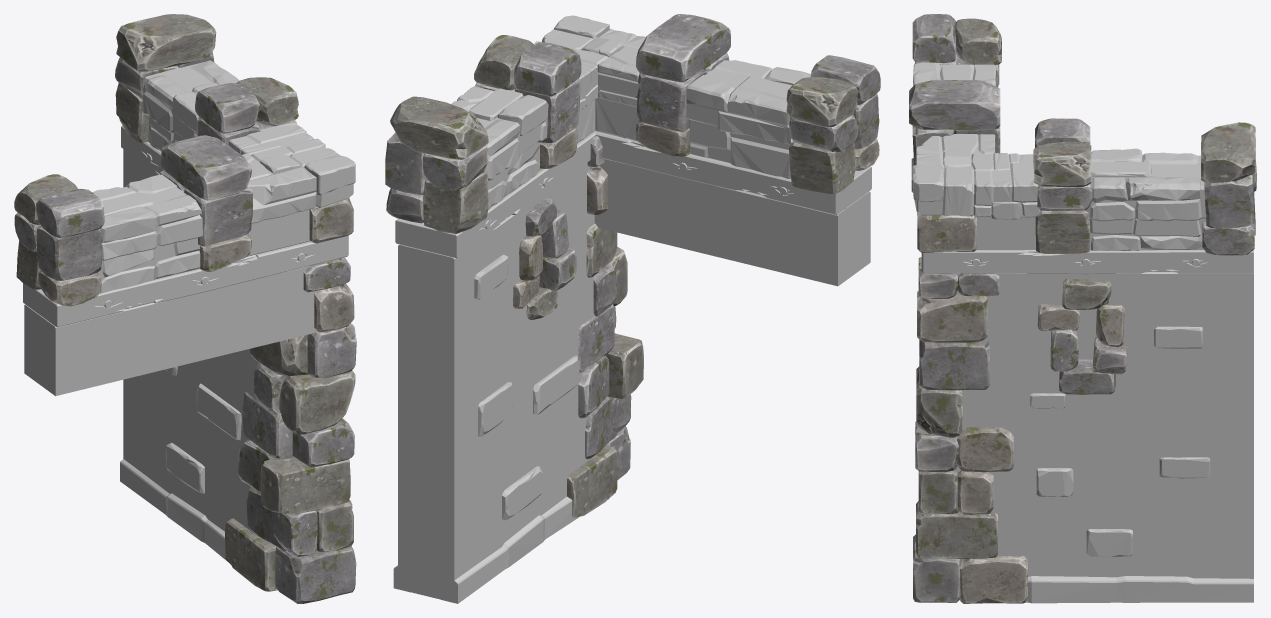
3 renders of one model, left to right at view 1: azimuth 30°, elevation 25°; view 2: azimuth 150°, elevation 25°; view 3: azimuth 270°, elevation 25°, orthographic. The views are drawn at different scales.
Parts seen in each view (by area): view 1: SM_Castle_Wall_Corner_4x6_01_v2_LOD0; view 2: SM_Castle_Wall_Corner_4x6_01_v2_LOD0; view 3: SM_Castle_Wall_Corner_4x6_01_v2_LOD0.
Part boxes in pixels (<box>): SM_Castle_Wall_Corner_4x6_01_v2_LOD0: <box>14,14,356,603</box>; SM_Castle_Wall_Corner_4x6_01_v2_LOD0: <box>385,14,880,603</box>; SM_Castle_Wall_Corner_4x6_01_v2_LOD0: <box>909,14,1256,603</box>.
Size of the model in its own units: 4.26 by 6.08 by 4.23.
